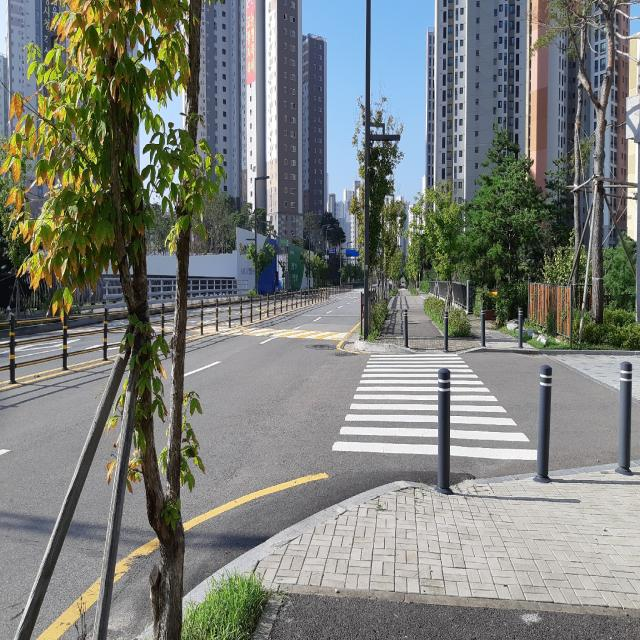횡단보도: (331, 352, 540, 463)
